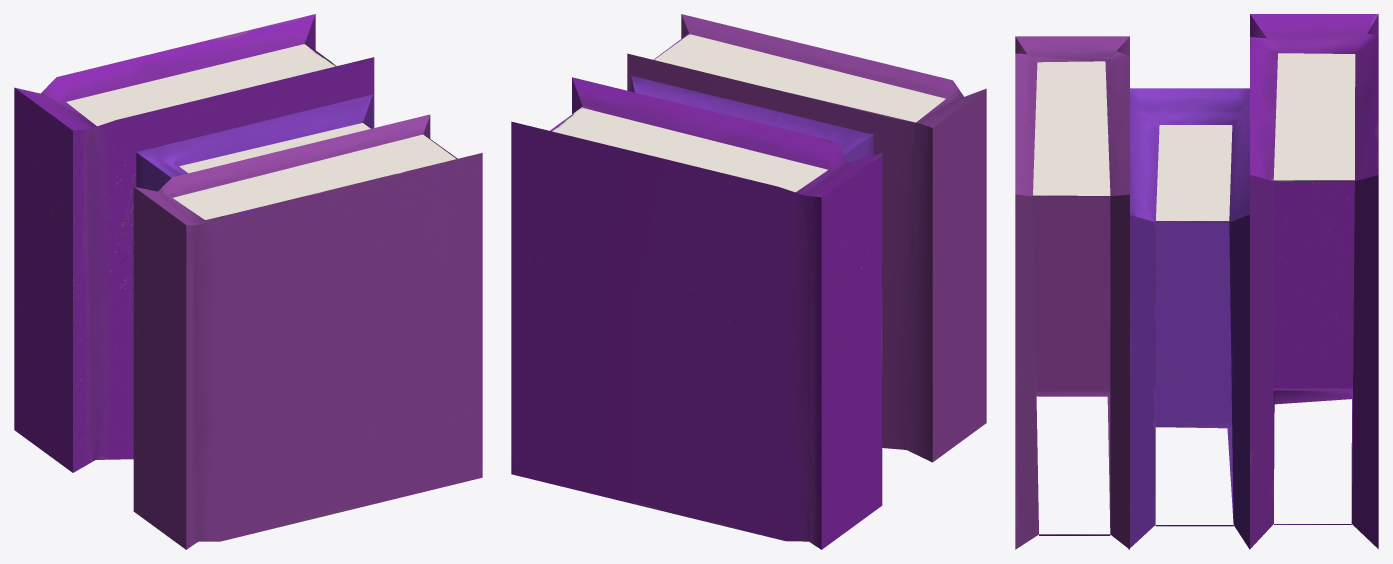
File: BOOKS_PURPLE.fbx
The picture shows the model from 3 angles, left to right: view 1: azimuth 30°, elevation 25°; view 2: azimuth 150°, elevation 25°; view 3: azimuth 270°, elevation 25°; orthographic projection. The views are drawn at different scales.
Visible parts, largest first — view 1: books_finished; view 2: books_finished; view 3: books_finished.
Part boxes in pixels (x1,y1,x2,y2): books_finished: [14, 14, 482, 549]; books_finished: [511, 14, 986, 549]; books_finished: [1015, 14, 1378, 549].
Size of the model in its own units: 61.96 by 67.29 by 58.95.
